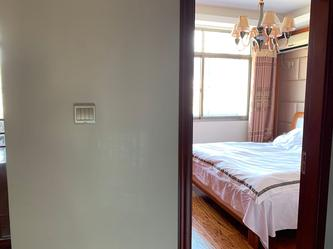switch: (75, 107, 80, 120), (88, 107, 93, 120), (80, 107, 84, 121), (84, 107, 88, 121)
